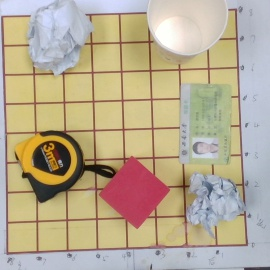card: (179, 83, 233, 166)
cup: (143, 2, 224, 59)
